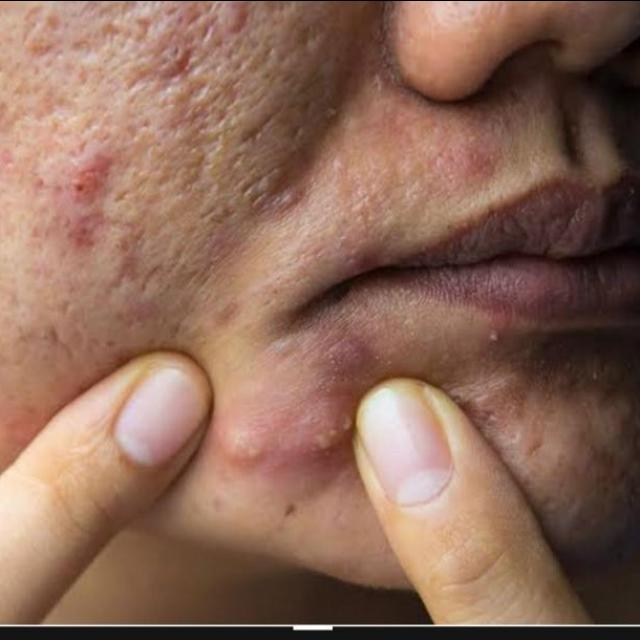nodule: (188, 388, 363, 472)
